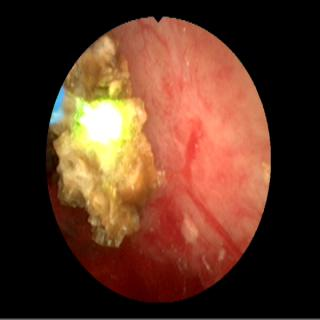laser: (74, 99, 131, 154)
stone: (54, 34, 161, 246)
tissue: (58, 20, 265, 296)
